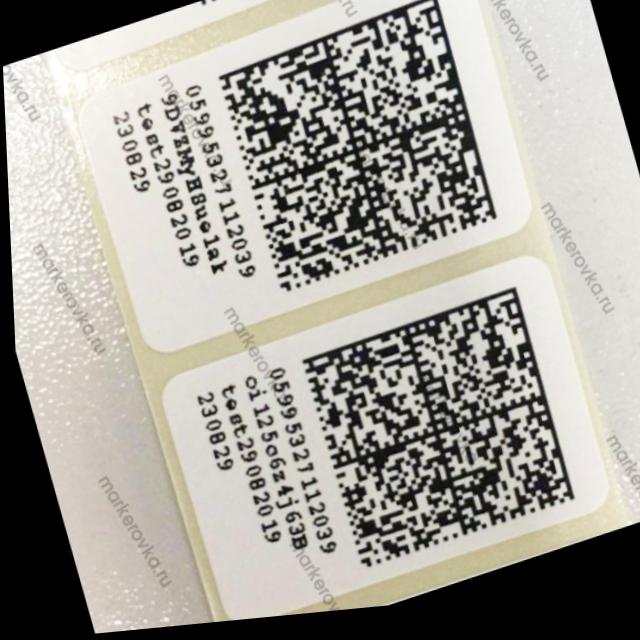datamatrix: (208, 1, 504, 309), (290, 289, 578, 588)
